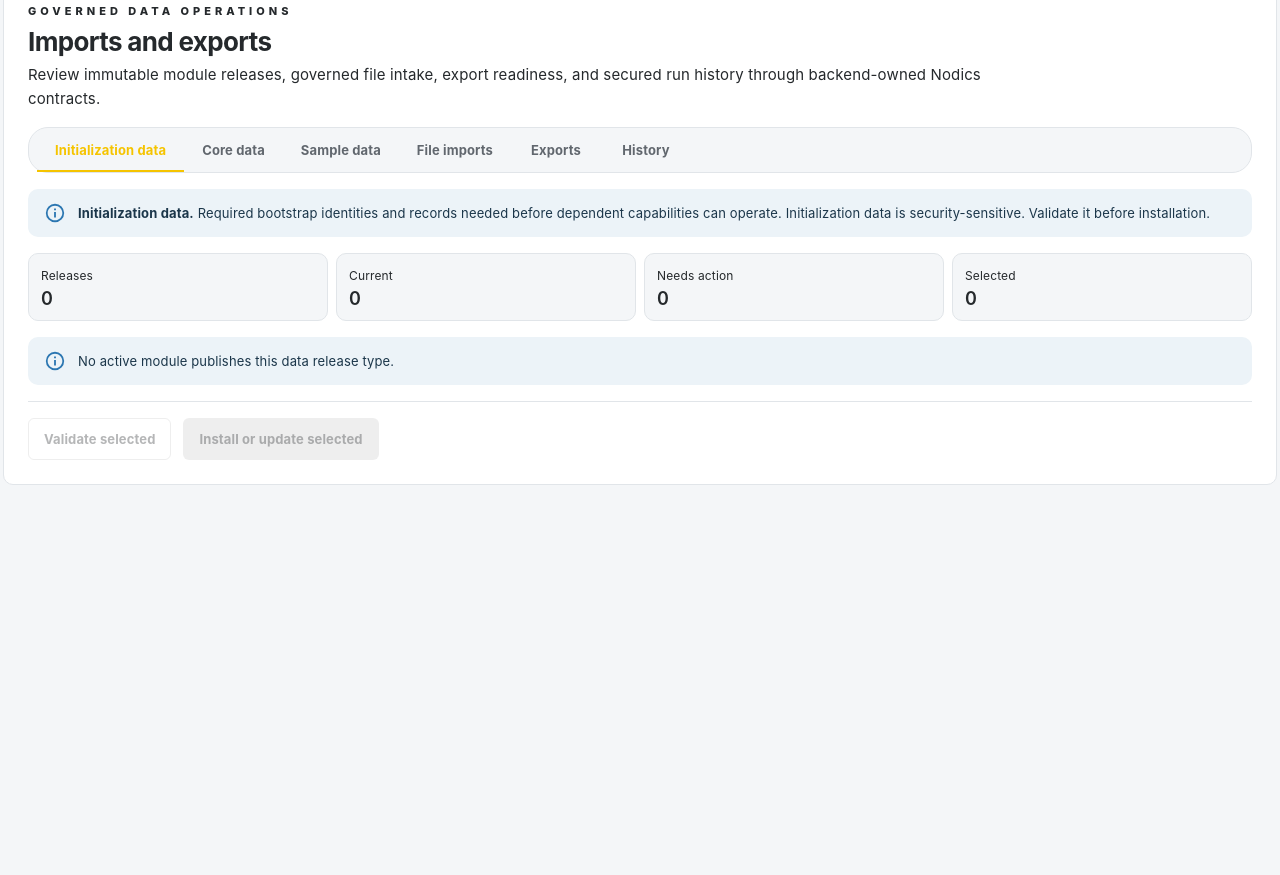
Scenario: ImportExportRoutePage › renders backend-owned generic file import workflow from discovered schemas
The width and height of the screenshot is (1280, 875).
Step 1. Click the tab "File imports" → (455, 150), box [399,128,511,172]
(page scrolled)
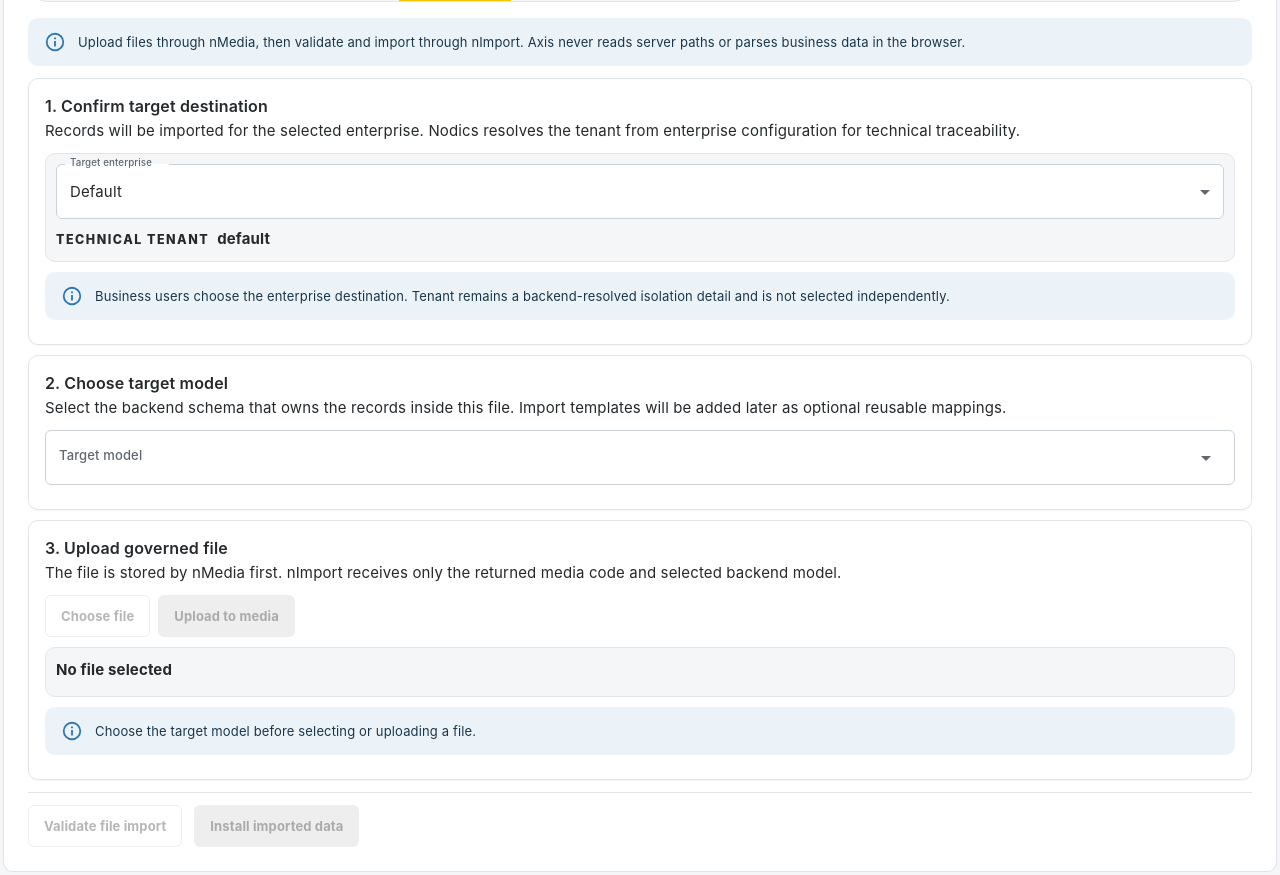
Expected: the heading "1. Confirm target destination" is shown, [45,96,268,116]
Expected: the heading "2. Choose target model" is shown, [45,373,228,393]
Expected: the dropdown labelled "Target model" is enabled, [54,439,1196,476]
